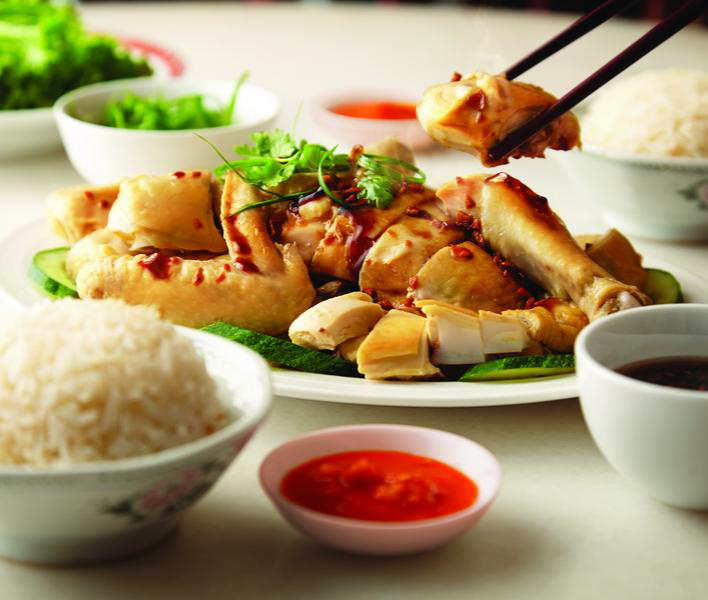Steamed Chicken Rice: (61, 74, 646, 362)
